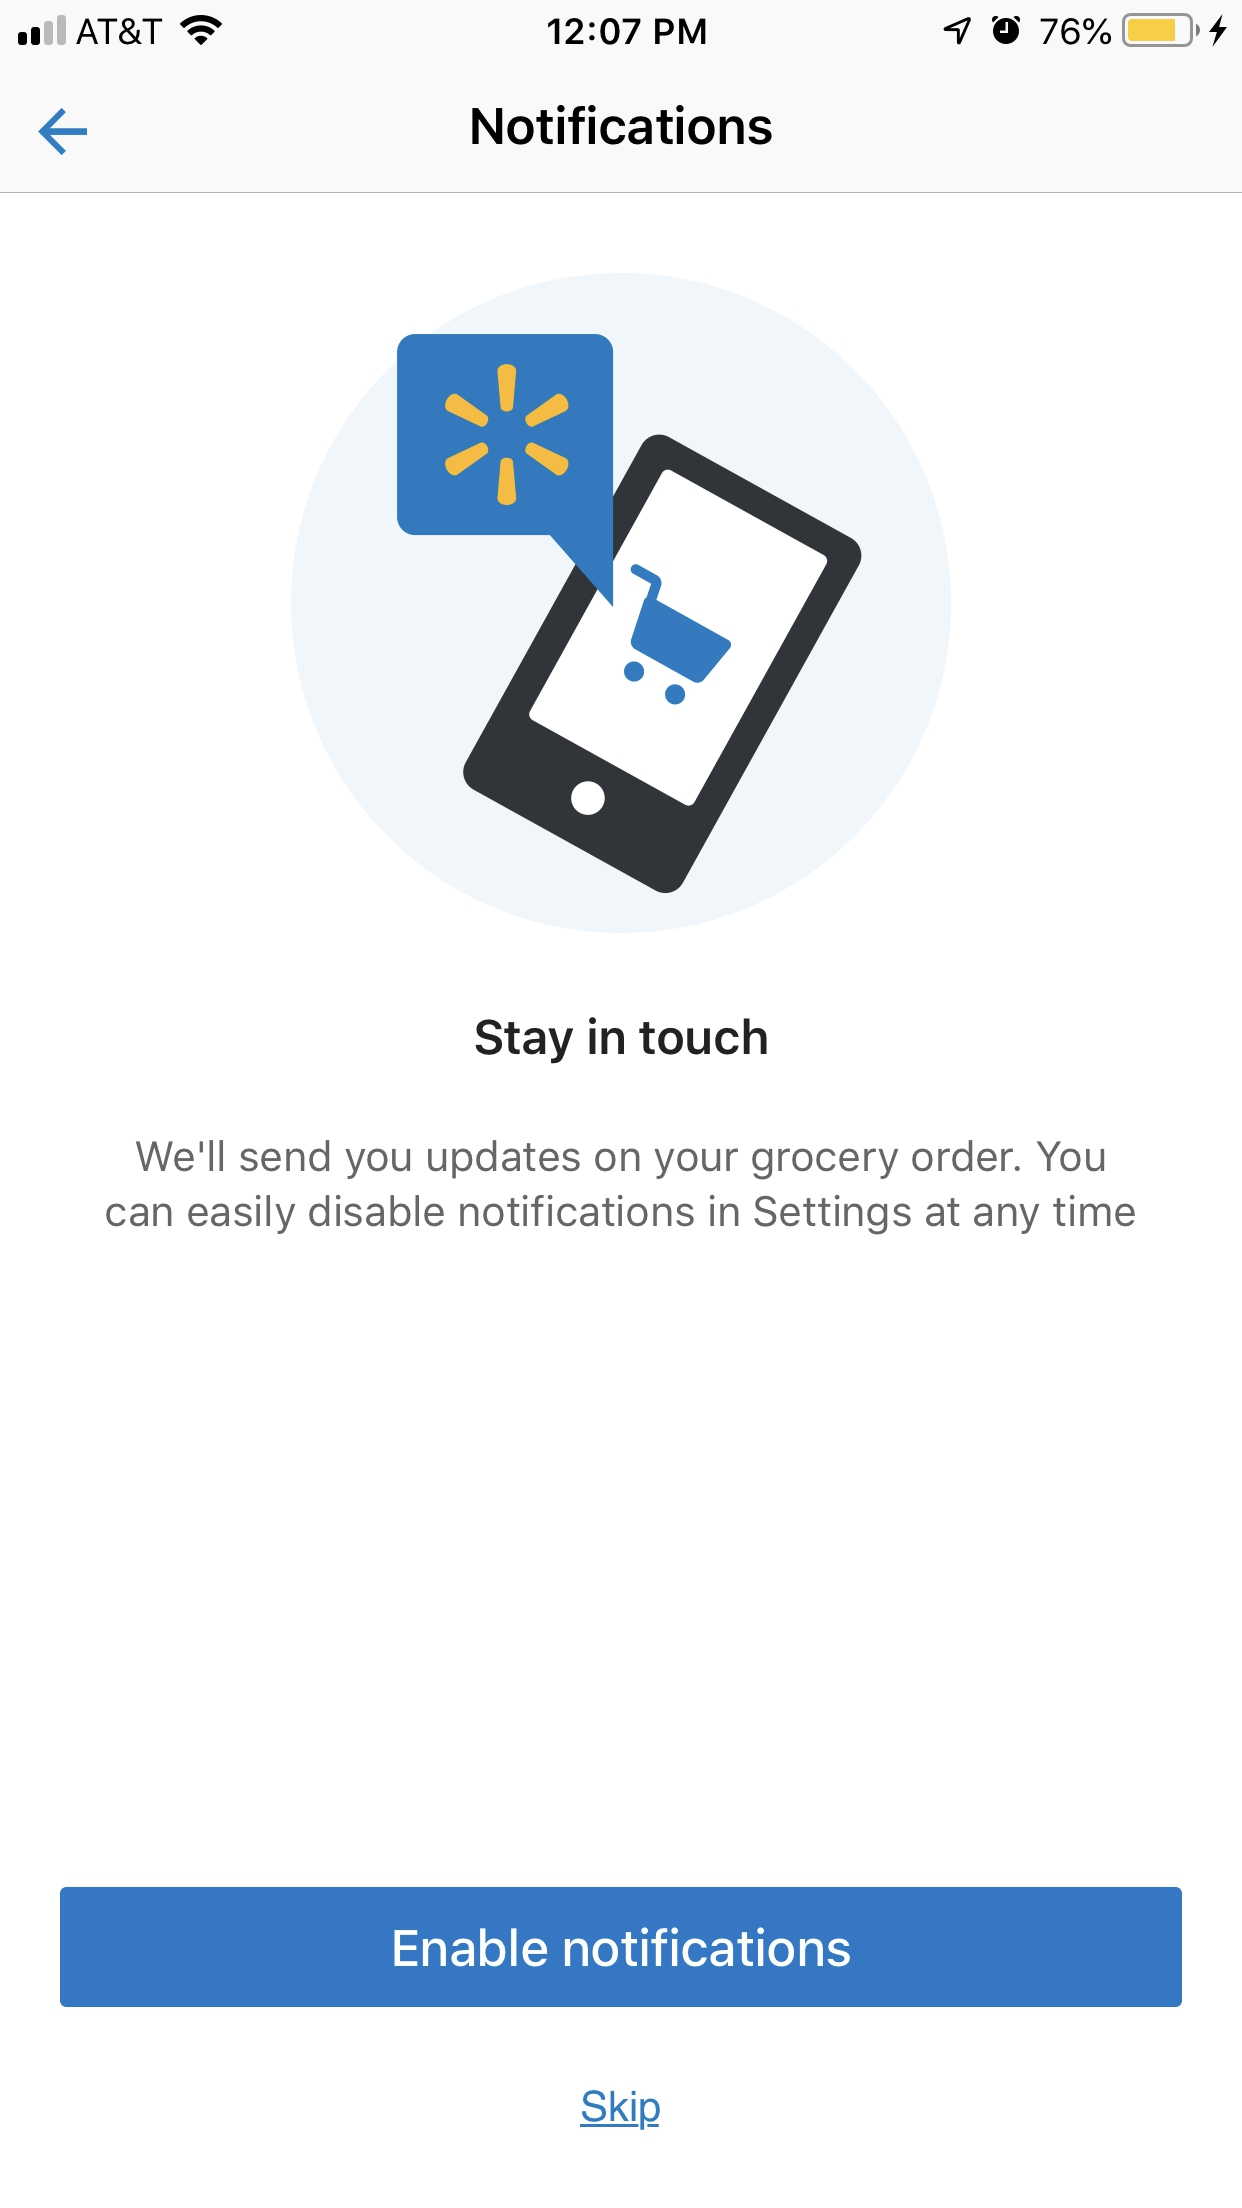Icon: (38, 109, 89, 158)
Image: (291, 271, 952, 936)
Text: (106, 1139, 1136, 1234), (475, 1018, 767, 1065), (472, 105, 773, 147), (579, 2090, 663, 2131)
TextButton: (61, 1887, 1183, 2008)
UpperTaskBar: (2, 2, 1242, 49)
